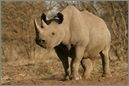rhino: (33, 4, 111, 81)
